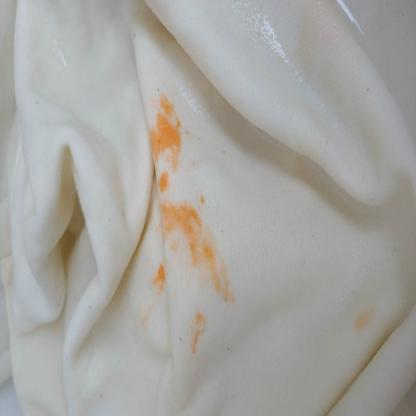kimchi: (154, 188, 236, 302), (133, 90, 195, 186), (178, 306, 213, 358), (144, 262, 168, 328), (344, 298, 376, 340)
